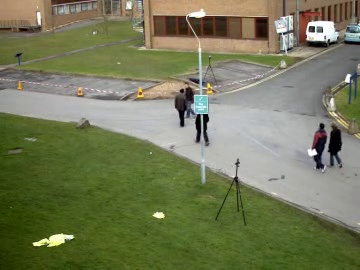person: (193, 109, 210, 148), (173, 89, 189, 127), (193, 107, 208, 145)
